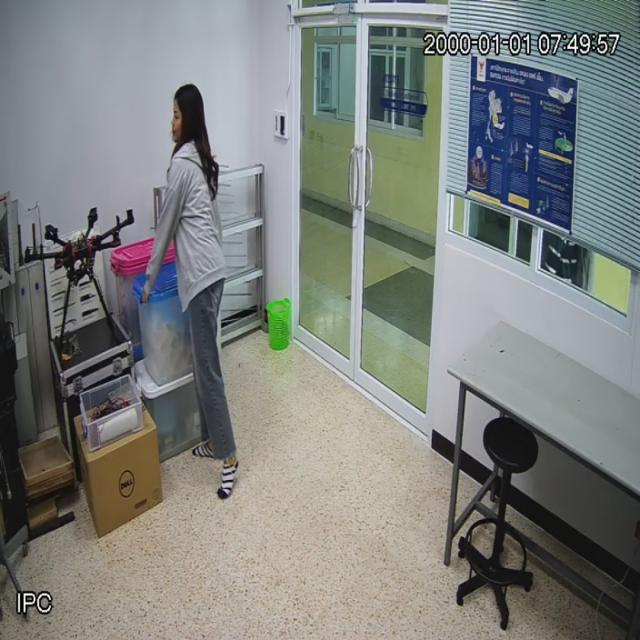normal: (167, 80, 236, 488)
